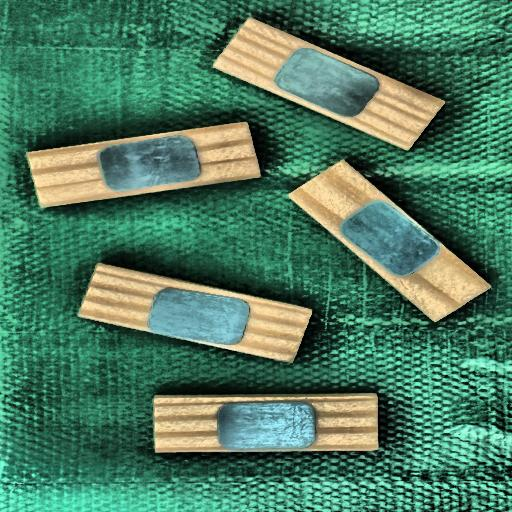objects: (288, 148, 492, 335), (212, 11, 445, 158), (78, 262, 313, 364), (25, 118, 261, 210), (154, 395, 379, 452)
